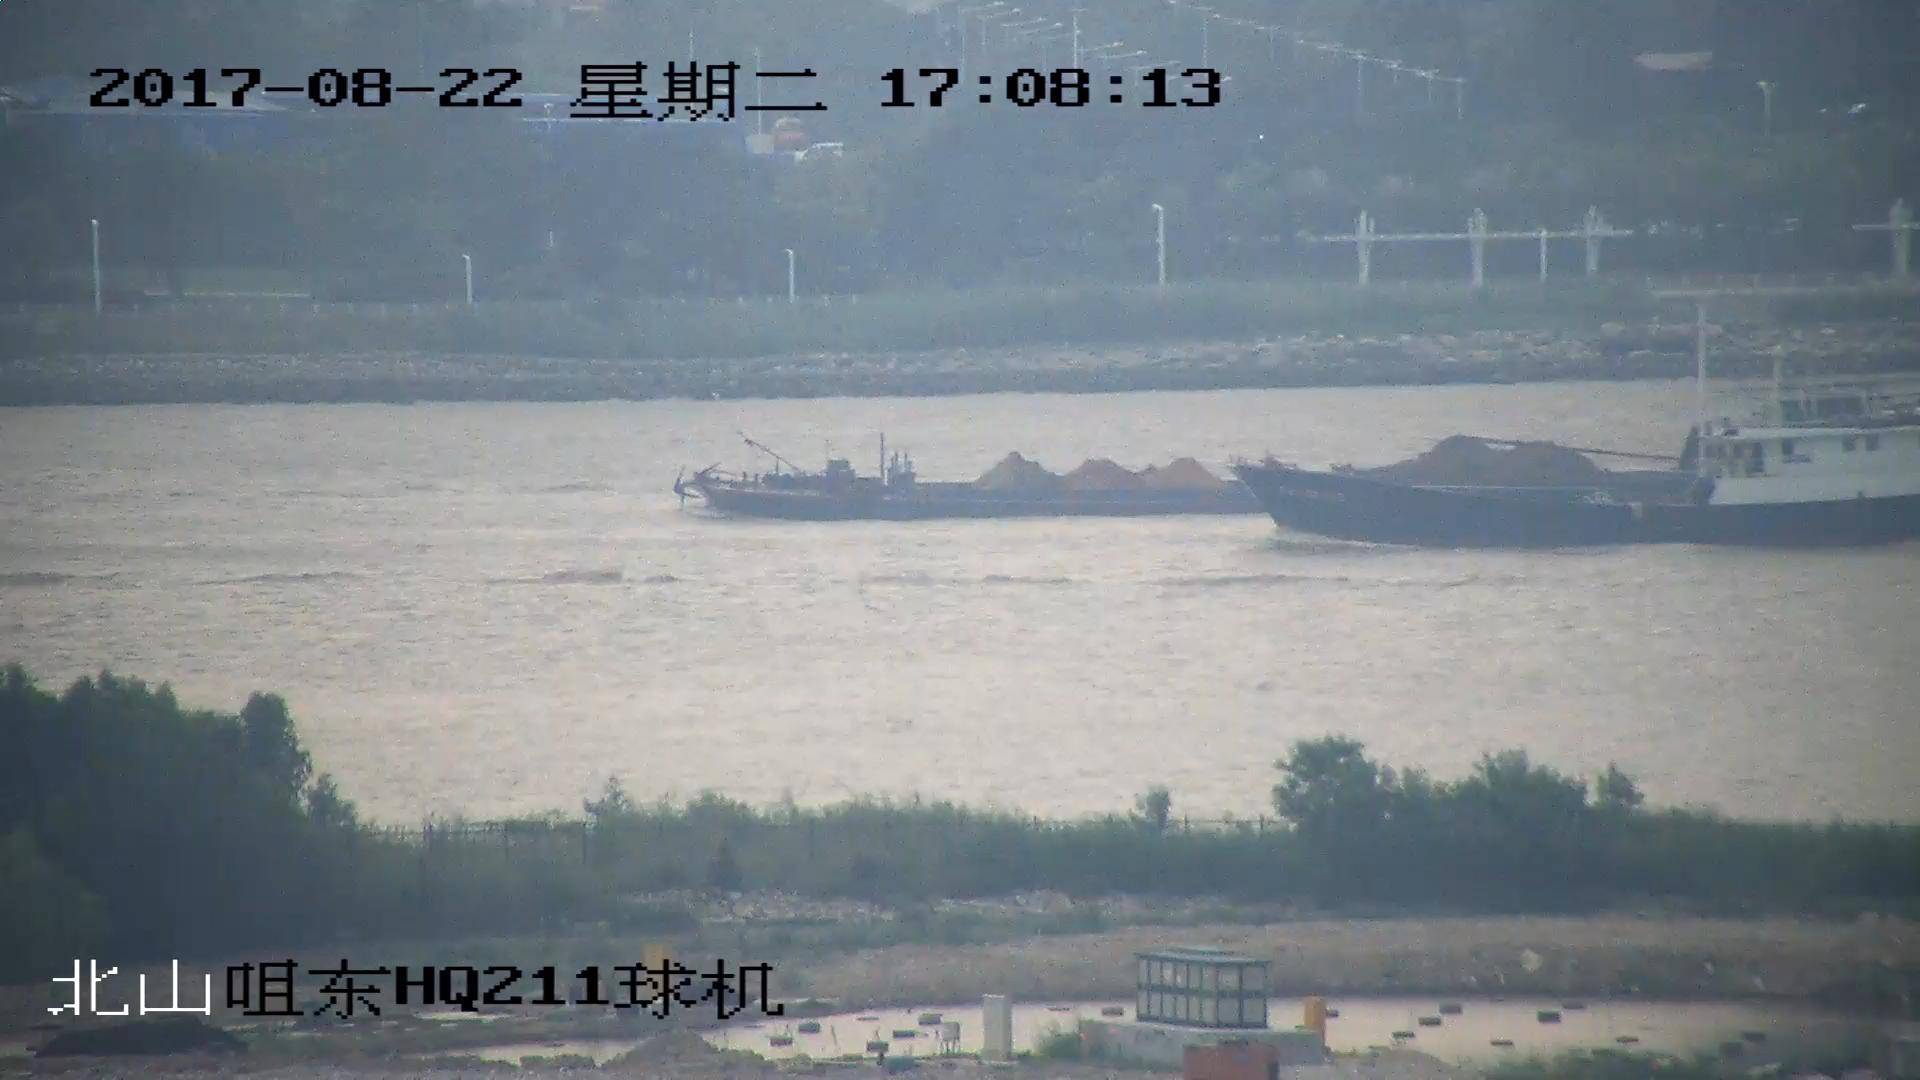Ship: (671, 394, 1920, 514), (1244, 359, 1920, 553)
